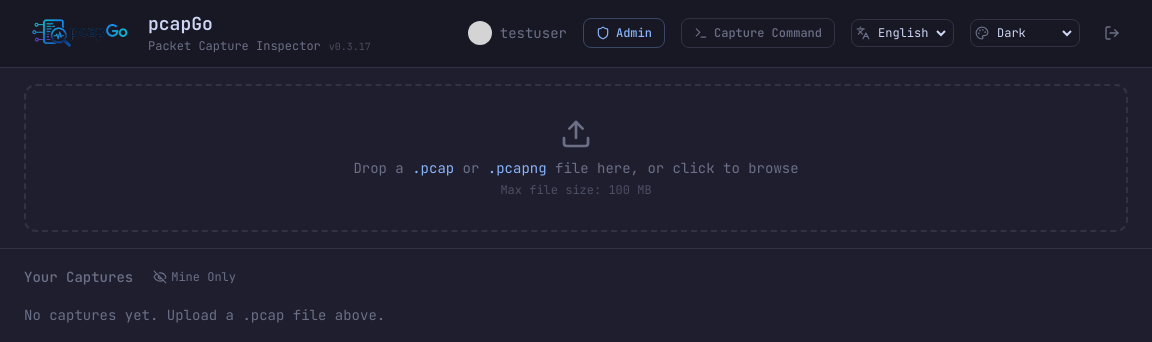
Test: DashboardPage › requests all captures when admin toggles all users
The image size is (1152, 342).
Click the button "Mine Only": (195, 277) [145,265,244,289]
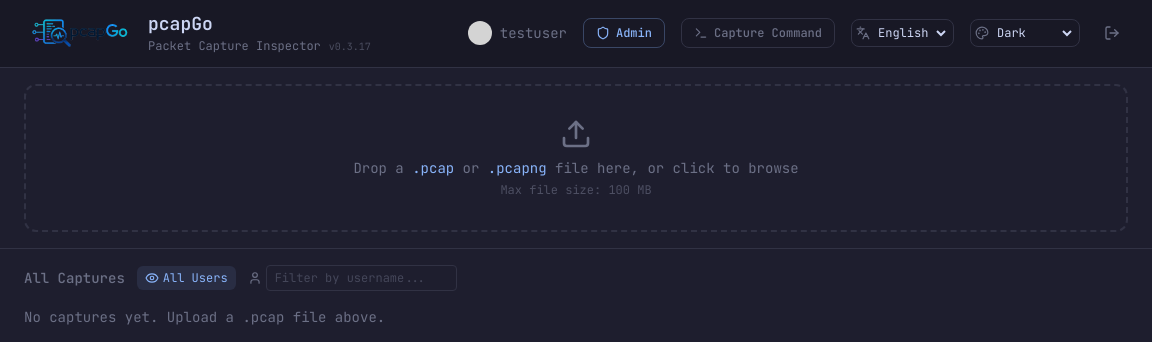
Expected: the button "All Users" is shown, [137,266,236,290]
